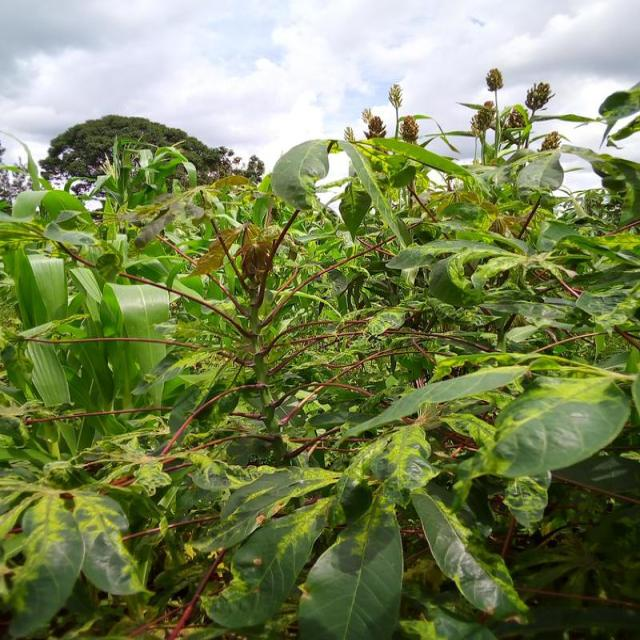Maleza: (0, 174, 173, 421)
Mosaico: (4, 460, 145, 611)
Mosca: (229, 447, 507, 630), (54, 490, 80, 507)
